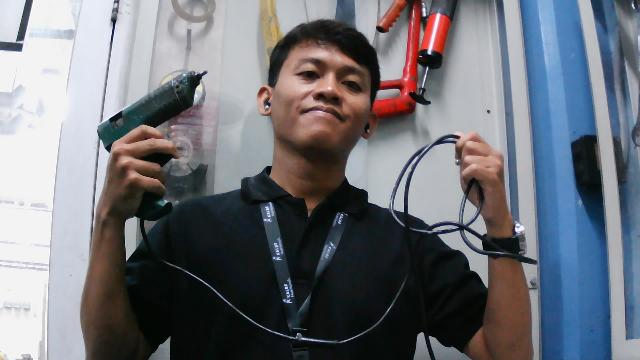gun_lem: (89, 62, 219, 234)
